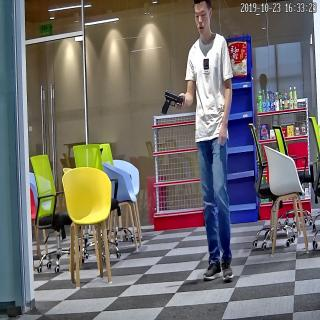gun: (161, 91, 185, 111)
